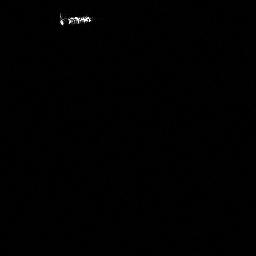ship: (59, 12, 91, 26)
